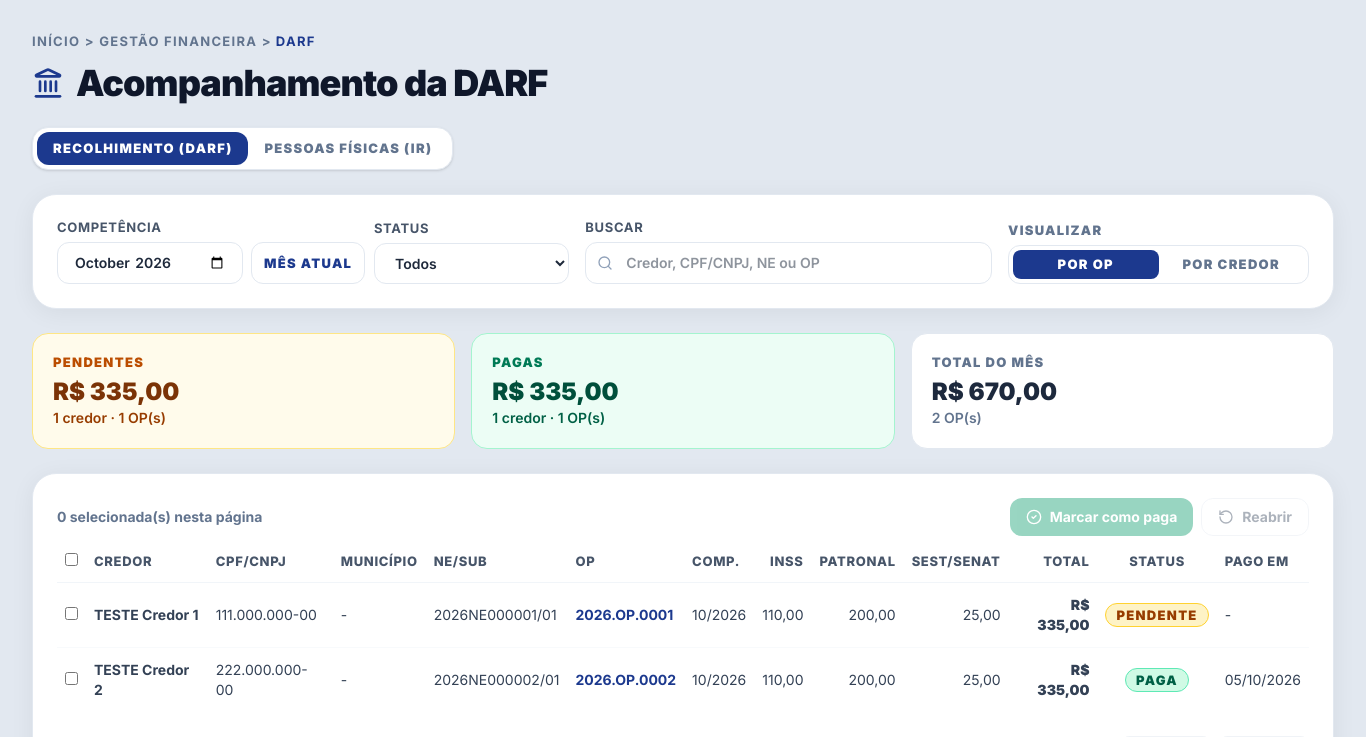
Scenario: D1: seleção misturada › só pagas selecionadas: "Marcar como paga" desabilitado
Click the checkbox named "Selecionar DARF da OP 2026.OP.0002" at (72, 679), box [65, 672, 78, 685]
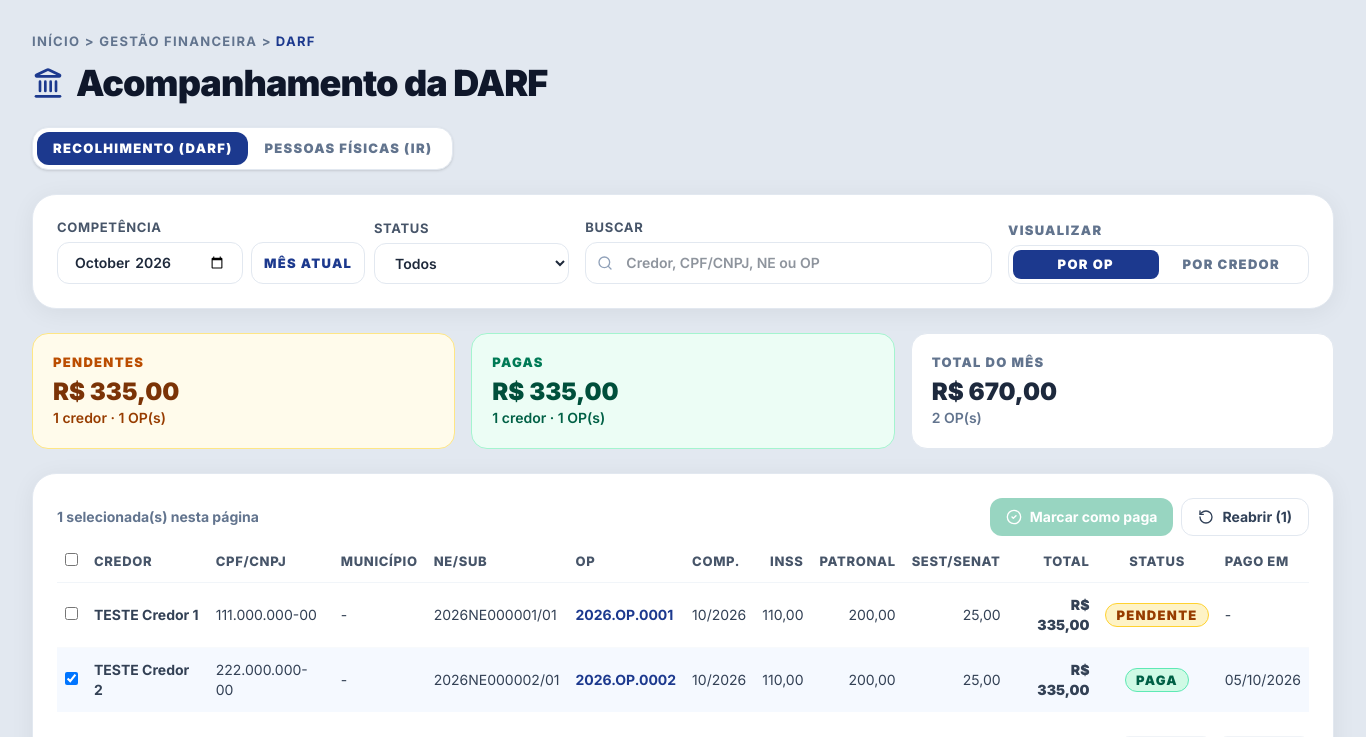
Expected: the button "Marcar como paga" is disabled, [990, 498, 1173, 536]
Expected: the button "Reabrir (1)" is enabled, [1181, 498, 1309, 536]
